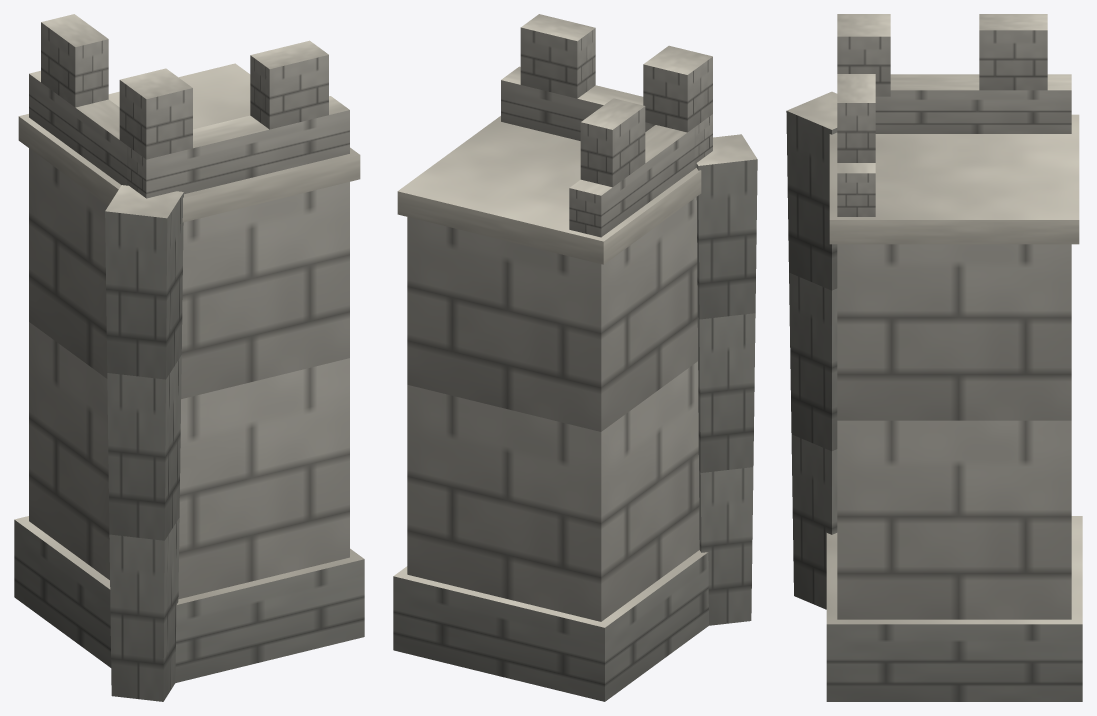
Rendered from wall_stone_corner_01.glb.
3 views of the same model, side by side, from view 1: azimuth 30°, elevation 25°; view 2: azimuth 150°, elevation 25°; view 3: azimuth 270°, elevation 25° (orthographic). The views are drawn at different scales.
Visible parts, largest first — view 1: wall_stone_corner_01; view 2: wall_stone_corner_01; view 3: wall_stone_corner_01.
Boxes of the visible parts, <box> form: wall_stone_corner_01: <box>14,14,364,701</box>; wall_stone_corner_01: <box>393,14,757,701</box>; wall_stone_corner_01: <box>786,14,1082,701</box>.
Bounding box in the file's own units: 2.76 × 6.02 × 2.76.
Materials: 1 (1 with a texture image).
